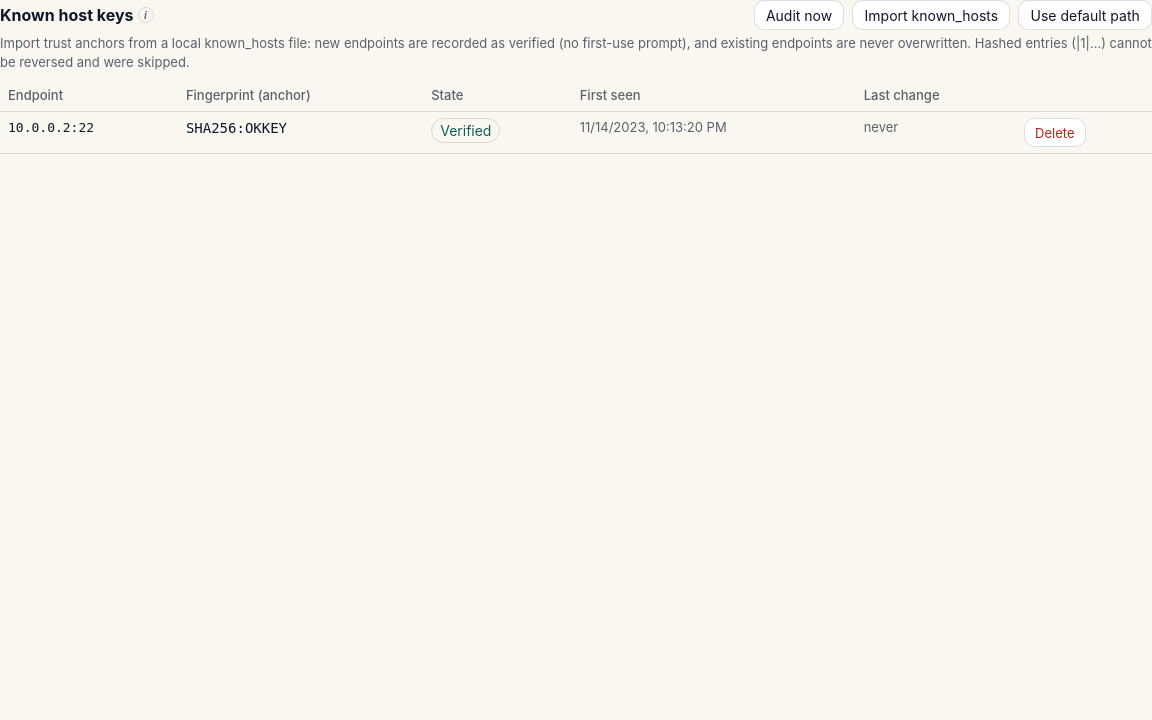
Test: KnownHostsManager › 删除走确认框：确认后 known_hosts_delete 以端点键发起
Later steps or results of the test are not shown.
Click the button with test id "kh-delete-10.0.0.2:22" at (1055, 133), box [1024, 118, 1086, 147]
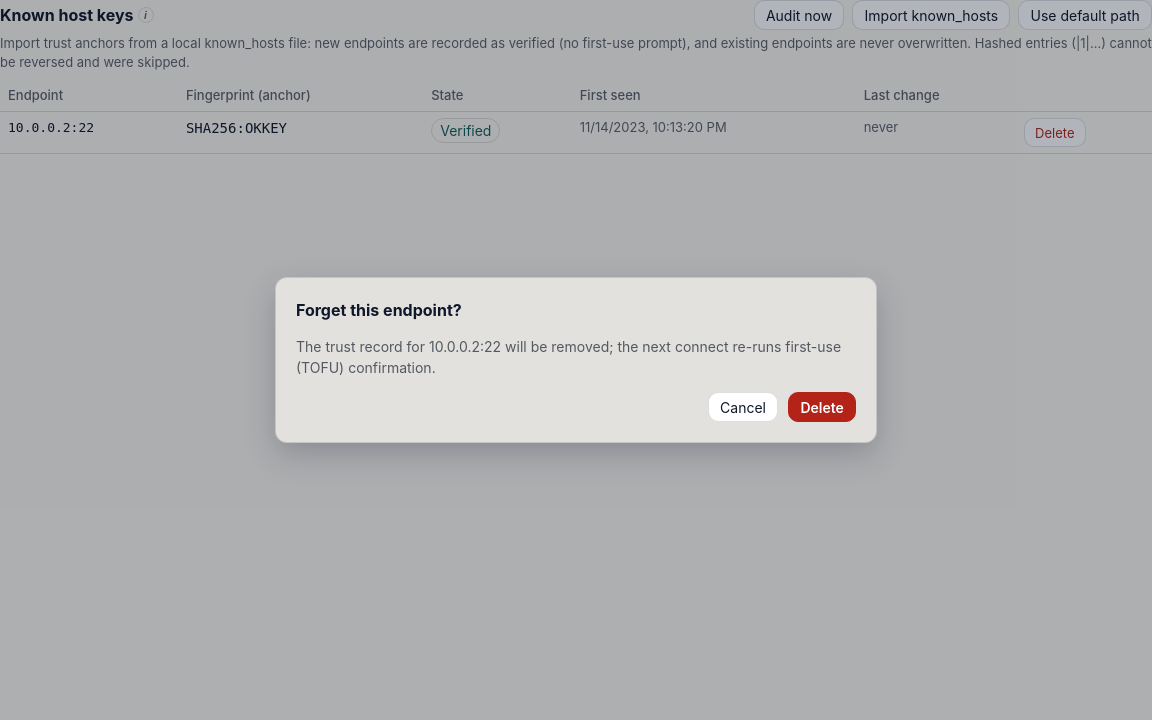
Expected: the element with test id "kh-delete-dialog" is shown, [275, 277, 877, 443]
Expected: the text with test id "kh-delete-hint" shows "10.0.0.2:22", [296, 338, 841, 376]
